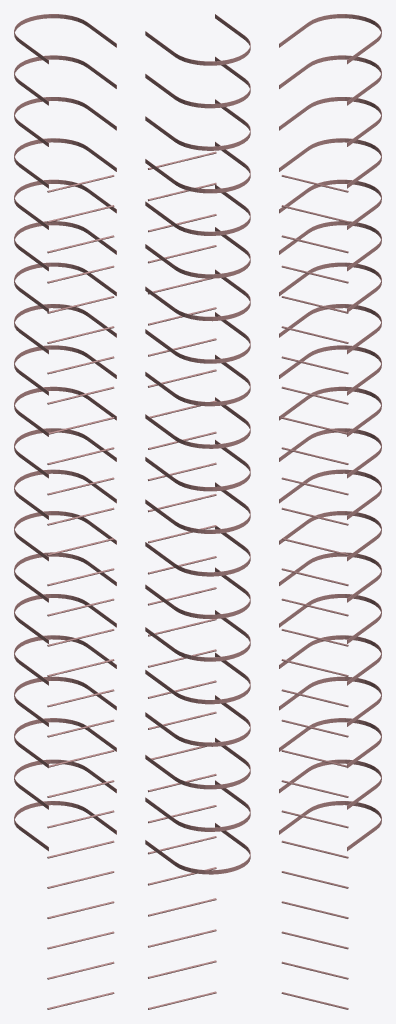
3 views of the same model, side by side, from view 1: azimuth 30°, elevation 25°; view 2: azimuth 210°, elevation 25°; view 3: azimuth 330°, elevation 25° (orthographic). The views are drawn at different scales.
Parts seen in each view (by area): view 1: 3$G4r6mEPF2OjpiaR3MOMl_h147041; view 2: 3$G4r6mEPF2OjpiaR3MOMl_h147041; view 3: 3$G4r6mEPF2OjpiaR3MOMl_h147041.
Part boxes in pixels (bbox=[...]): 3$G4r6mEPF2OjpiaR3MOMl_h147041: bbox=[14, 14, 116, 1009]; 3$G4r6mEPF2OjpiaR3MOMl_h147041: bbox=[145, 14, 250, 1009]; 3$G4r6mEPF2OjpiaR3MOMl_h147041: bbox=[279, 14, 381, 1009].
Size of the model in its own units: 0.708 by 9.43 by 0.8775.
